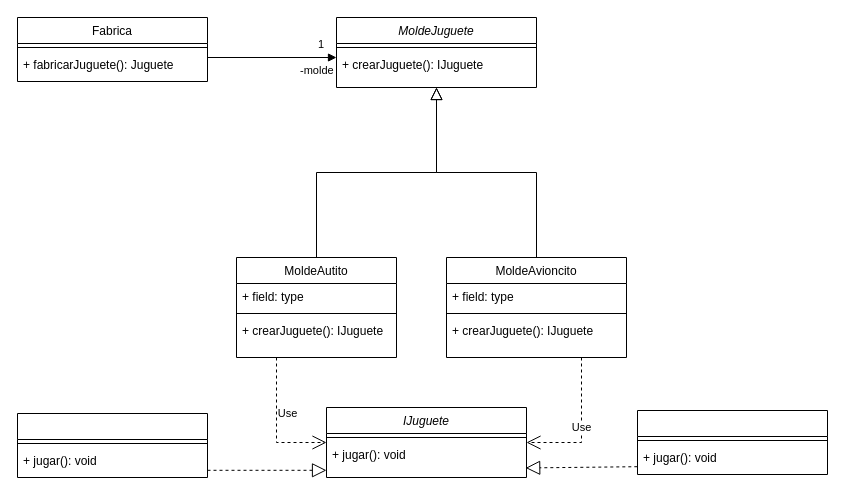
This 845x502 diagram has some shape labels left out. Each missing label, with the box of its shape:
Autito: (16, 412, 208, 478)
Avioncito: (636, 410, 828, 474)
